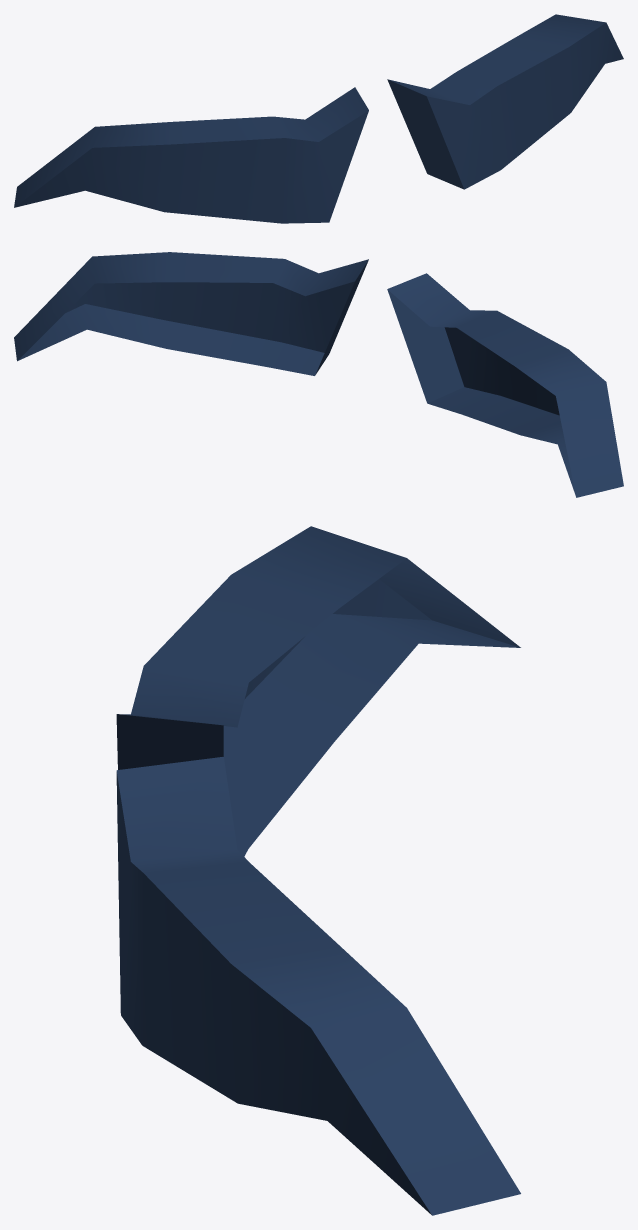
The model's file is Brow_Blue_8.fbx.
The picture shows the model from 3 angles, top to bottom: view 1: azimuth 30°, elevation 25°; view 2: azimuth 150°, elevation 25°; view 3: azimuth 270°, elevation 25°; orthographic projection. The views are drawn at different scales.
Visible parts, largest first — view 1: Brow_Blue_8; view 2: Brow_Blue_8; view 3: Brow_Blue_8.
Boxes of the visible parts, x1,y1,x2,y2 form: Brow_Blue_8: (14, 14, 623, 223); Brow_Blue_8: (14, 252, 623, 497); Brow_Blue_8: (116, 526, 520, 1215).
Size of the model in its own units: 41.99 by 6.88 by 12.07.
